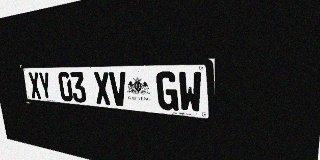0: (57, 72, 73, 102)
3: (70, 72, 87, 103)
G: (156, 71, 179, 111)
V: (109, 72, 128, 107)
W: (178, 71, 202, 113)
X: (93, 72, 111, 105), (28, 72, 42, 99)
Y: (38, 72, 53, 100)
